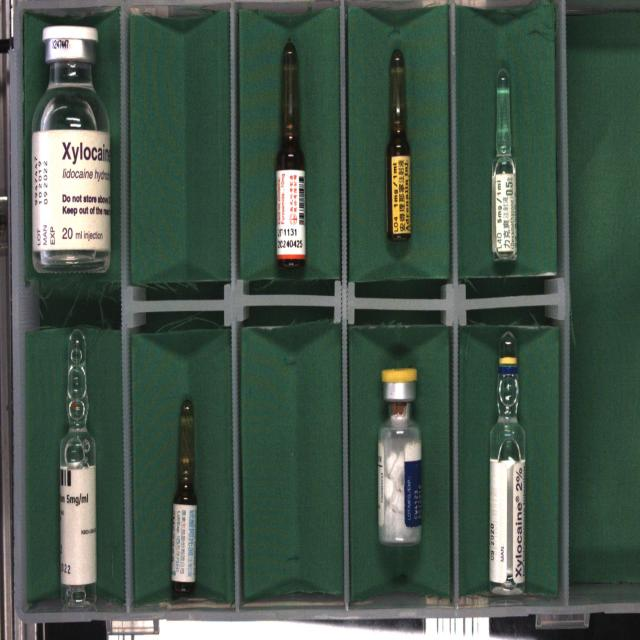Vials: (31, 26, 110, 272), (378, 367, 421, 546)
